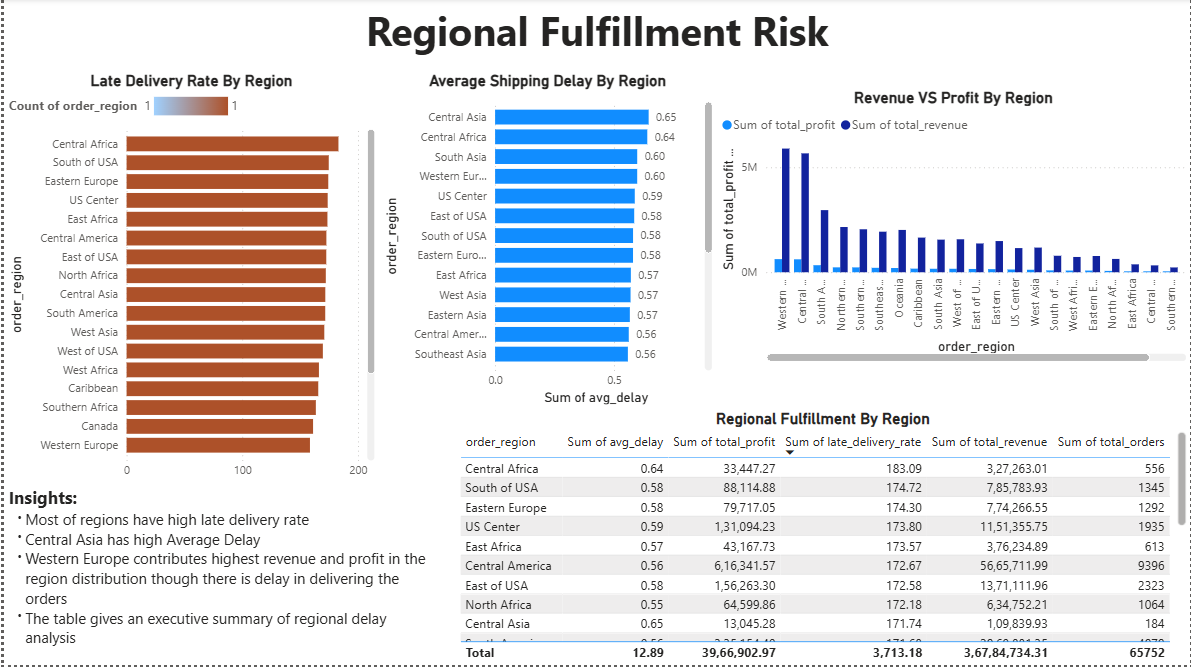

Layout of this report page (visuals, bound fields, positions):
{"tool":"powerbi","page":{"name":"Page 2","canvas":[1280,720],"ordinal":1},"visuals":[{"type":"clusteredBarChart","title":"Late Delivery Rate By Region","fields":{"Category":["analytics region_delay_analysis.order_region"],"Y":["Sum(analytics region_delay_analysis.late_delivery_rate)"]},"box":[0,79.3,404.8,461.5],"z":0},{"type":"clusteredBarChart","title":"Average Shipping Delay By Region","fields":{"Category":["analytics region_delay_analysis.order_region"],"Y":["Sum(analytics region_delay_analysis.avg_delay)"]},"box":[404.8,79.3,364.3,364.3],"z":1000},{"type":"clusteredColumnChart","title":"Revenue VS Profit By Region","fields":{"Category":["analytics region_delay_analysis.order_region"],"Y":["Sum(analytics region_delay_analysis.total_profit)","Sum(analytics region_delay_analysis.total_revenue)"]},"box":[769.1,97.2,511.7,299.6],"z":2000},{"type":"tableEx","title":"Regional Fulfillment By Region","fields":{"Values":["analytics region_delay_analysis.order_region","Sum(analytics region_delay_analysis.avg_delay)","Sum(analytics region_delay_analysis.total_profit)","Sum(analytics region_delay_analysis.late_delivery_rate)","Sum(analytics region_delay_analysis.total_revenue)","Sum(analytics region_delay_analysis.total_orders)"]},"box":[487.4,443.7,793.4,276.9],"z":3000},{"type":"textbox","box":[0,0,1280.8,79.3],"z":4000},{"type":"textbox","box":[0,521.6,466.8,198.4],"z":4001}]}

Visuals, with their boxes in screenshot pixels (x1, y1, x2, y2), scaled from the page's 1280x720 canvas onto the 1191x667 screenshot:
"Late Delivery Rate By Region" clusteredBarChart: 0, 73, 377, 501
"Average Shipping Delay By Region" clusteredBarChart: 377, 73, 716, 411
"Revenue VS Profit By Region" clusteredColumnChart: 716, 90, 1190, 368
"Regional Fulfillment By Region" tableEx: 454, 411, 1190, 666
textbox: 0, 0, 1190, 73
textbox: 0, 483, 434, 666
